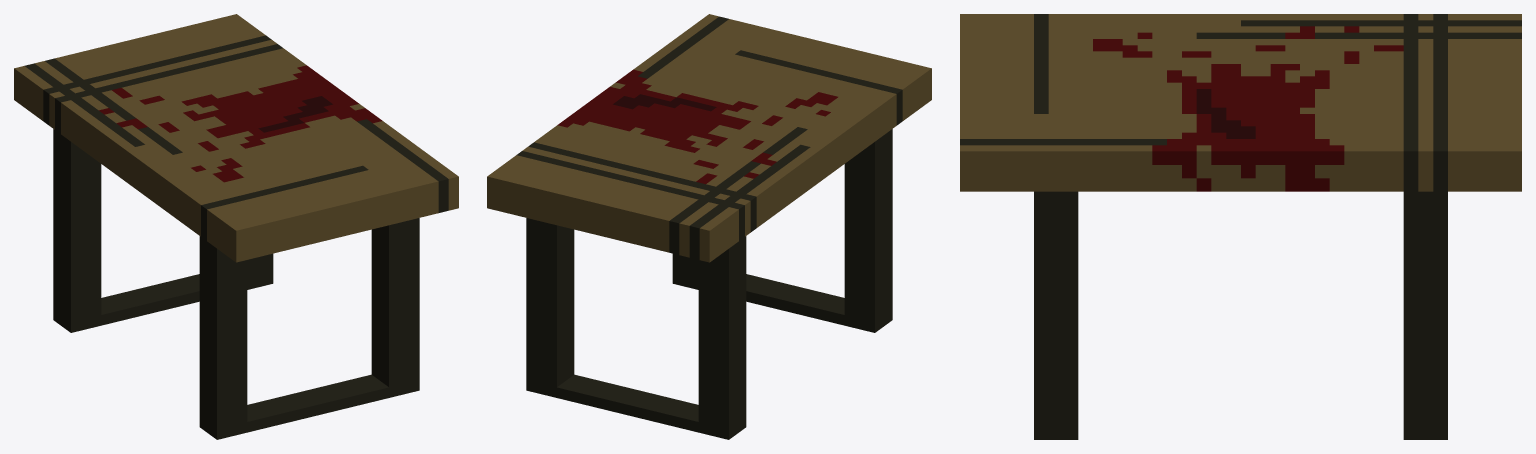
Rendered from Table2(Well-Worn).obj.
3 views of the same model, side by side, from view 1: azimuth 30°, elevation 25°; view 2: azimuth 150°, elevation 25°; view 3: azimuth 270°, elevation 25° (orthographic). The views are drawn at different scales.
Size of the model in its own units: 2.2 by 2.2 by 3.8.
Materials: 1 (1 with a texture image).
